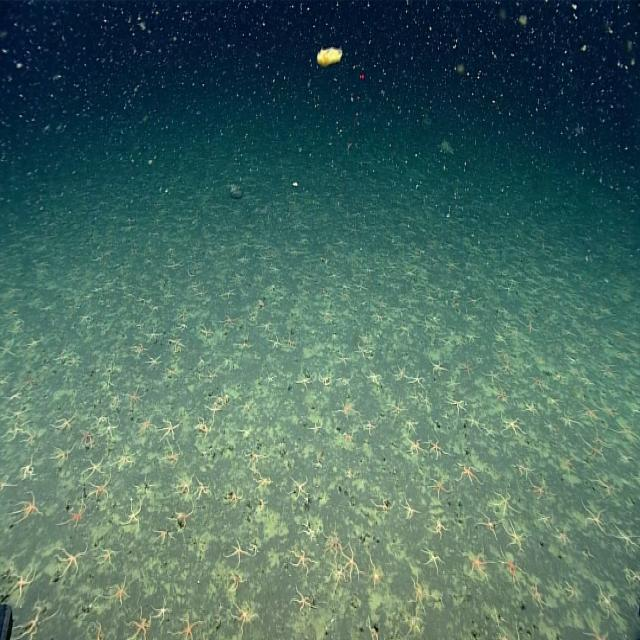brittle-stars: (4, 557, 40, 605), (16, 491, 45, 533), (19, 600, 49, 640), (244, 442, 272, 484), (55, 544, 87, 578), (59, 498, 86, 537), (580, 501, 606, 541), (504, 519, 534, 550), (123, 498, 147, 536), (613, 520, 640, 553), (52, 406, 78, 439), (229, 601, 254, 634), (618, 417, 638, 457), (453, 463, 482, 490), (292, 545, 318, 575), (113, 448, 139, 478), (343, 538, 362, 579), (556, 447, 577, 484), (467, 549, 486, 589), (501, 411, 526, 441), (389, 359, 411, 393), (595, 584, 617, 618), (127, 609, 151, 640), (174, 614, 202, 640), (170, 506, 196, 534), (588, 473, 616, 499), (492, 492, 525, 514), (444, 394, 476, 416), (208, 391, 232, 420), (292, 591, 318, 617), (420, 547, 446, 573), (52, 440, 74, 470), (92, 547, 118, 572), (360, 368, 385, 394), (426, 478, 448, 507), (500, 555, 524, 581), (291, 474, 311, 504), (352, 339, 375, 365), (403, 436, 424, 464), (530, 580, 547, 614), (195, 416, 218, 441), (410, 581, 433, 606), (104, 416, 125, 443), (128, 381, 144, 416), (482, 508, 502, 536), (582, 620, 610, 640), (328, 528, 346, 559), (163, 440, 186, 464), (165, 335, 185, 362), (110, 578, 129, 606), (408, 612, 430, 636), (562, 578, 578, 611), (6, 419, 27, 444), (401, 499, 422, 524), (180, 467, 198, 496), (229, 540, 248, 567), (84, 457, 105, 481), (93, 475, 110, 504), (227, 485, 245, 512), (366, 562, 384, 589), (0, 339, 18, 366), (196, 321, 219, 342), (457, 356, 480, 377), (155, 600, 171, 630), (252, 472, 276, 492), (516, 454, 532, 484), (370, 496, 394, 516), (336, 396, 354, 422), (433, 513, 451, 539), (22, 461, 38, 490), (460, 328, 481, 350), (586, 437, 601, 467), (131, 340, 147, 368), (523, 395, 540, 421), (222, 309, 237, 338), (430, 354, 448, 378), (196, 475, 209, 507), (101, 372, 117, 398), (162, 420, 185, 438), (408, 368, 426, 391), (554, 523, 569, 550), (294, 370, 313, 391), (402, 416, 420, 438), (534, 473, 548, 501), (93, 408, 108, 434), (431, 433, 443, 465), (228, 571, 242, 598), (142, 327, 163, 345), (388, 402, 406, 423), (156, 525, 171, 550), (298, 525, 320, 542), (499, 356, 515, 379), (79, 424, 93, 450), (321, 369, 334, 397), (538, 508, 552, 534), (583, 405, 602, 424), (339, 428, 356, 449), (334, 348, 350, 370), (484, 420, 499, 443), (140, 414, 157, 434), (464, 413, 485, 429), (422, 313, 438, 334), (560, 410, 577, 429), (165, 259, 183, 276), (269, 336, 286, 353), (219, 285, 236, 302), (520, 316, 536, 334), (445, 374, 459, 394), (496, 387, 510, 407), (373, 309, 386, 330), (545, 392, 561, 409), (483, 367, 501, 382), (532, 374, 546, 393), (238, 425, 252, 443), (110, 392, 125, 407), (366, 417, 379, 434), (251, 538, 261, 560), (334, 566, 346, 584), (150, 354, 161, 373), (310, 420, 322, 436), (78, 312, 90, 327), (260, 495, 269, 513), (262, 321, 274, 334)
